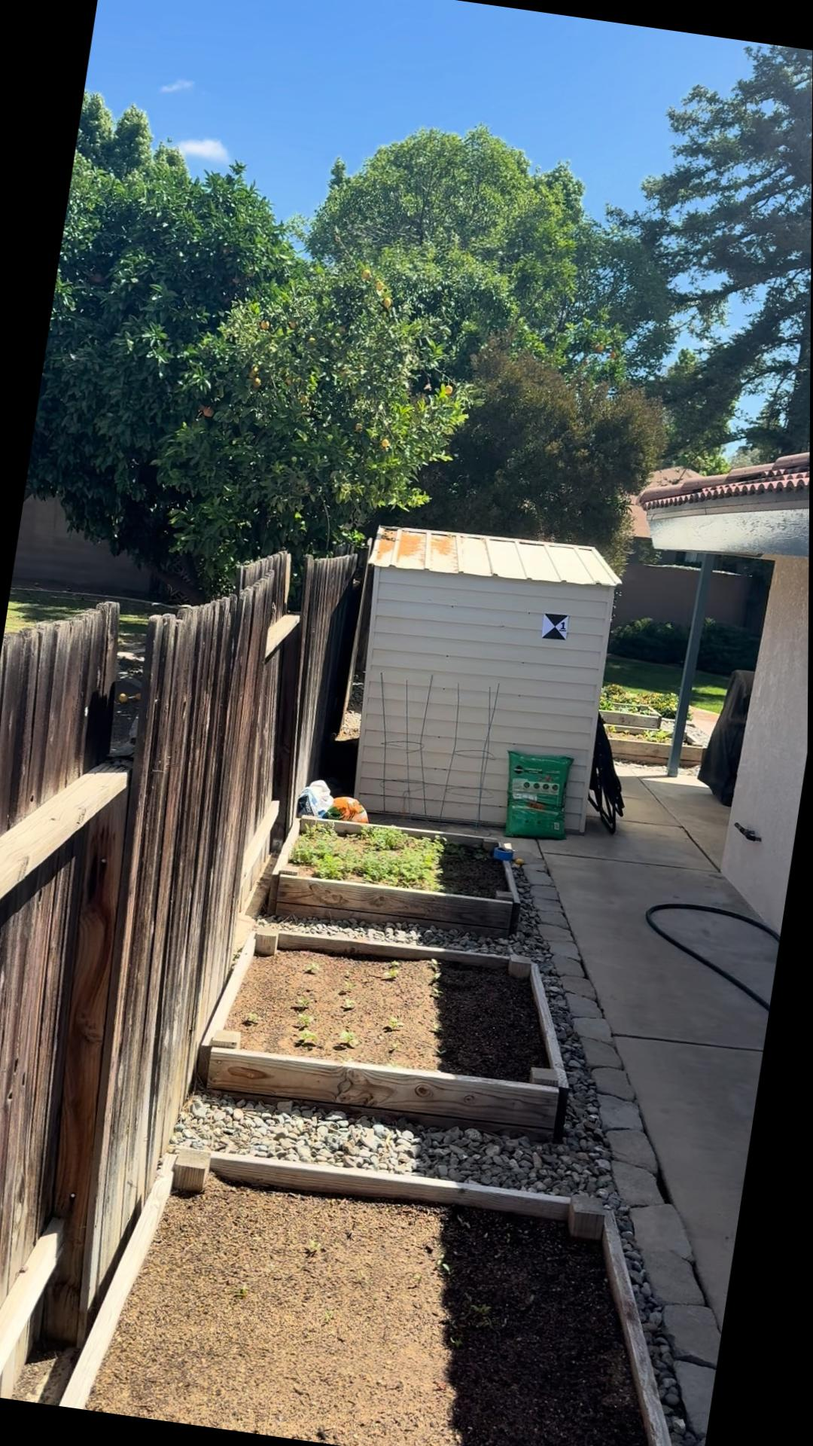target1: (540, 610, 573, 642)
